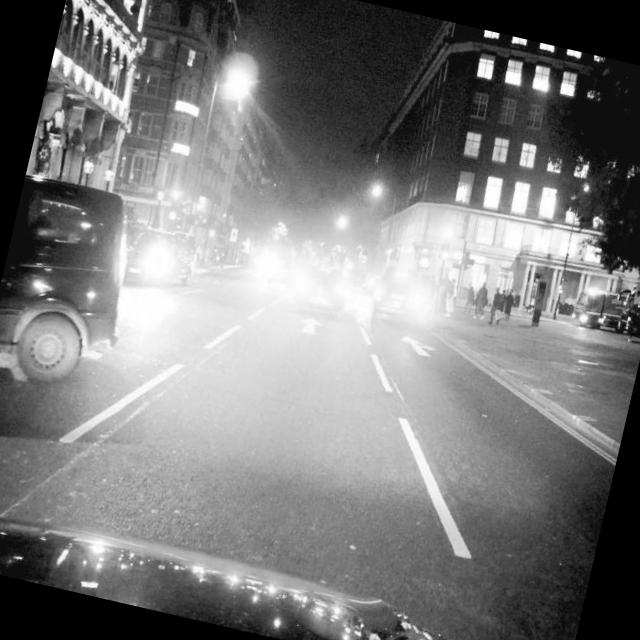Car: (0, 167, 153, 410)
Truck: (567, 263, 640, 346)
